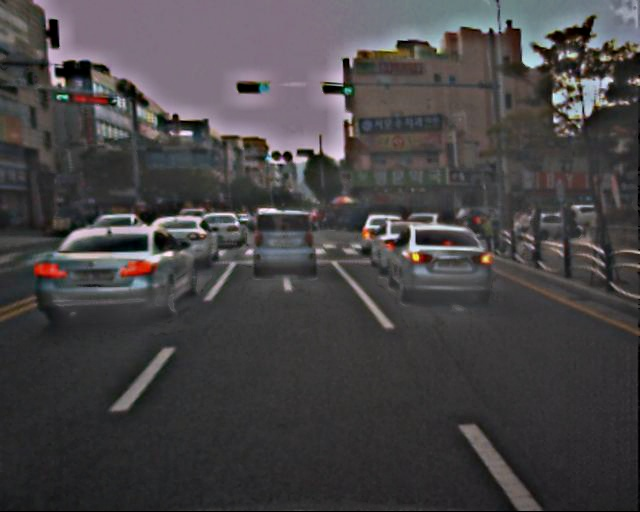person: (479, 215, 495, 254), (565, 202, 581, 240)
